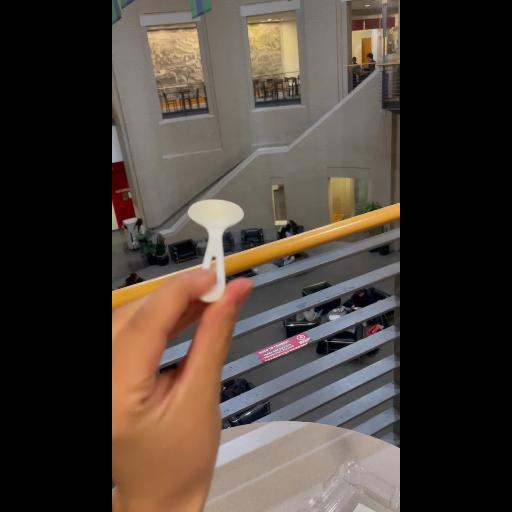utensil: (178, 190, 260, 322)
